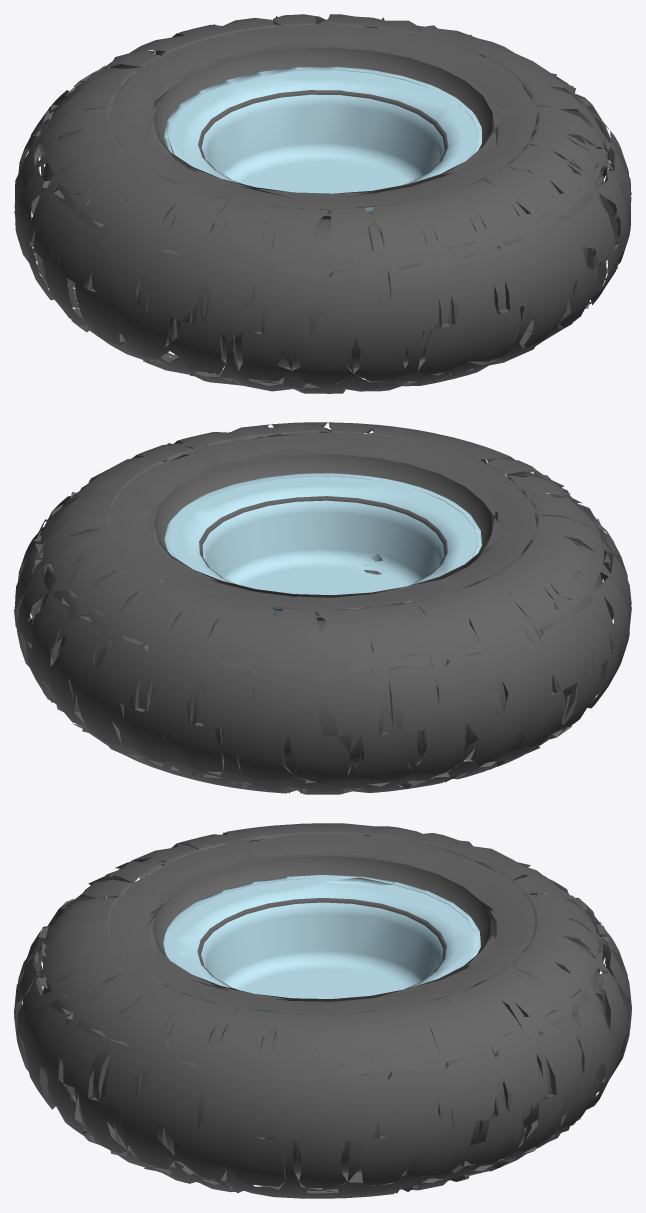
File: rear_left_wheel_visual.obj
3 renders of one model, top to bottom at view 1: azimuth 30°, elevation 25°; view 2: azimuth 150°, elevation 25°; view 3: azimuth 270°, elevation 25°, orthographic.
Visible parts, largest first — view 1: rear_left_wheel_visual; view 2: rear_left_wheel_visual; view 3: rear_left_wheel_visual.
Boxes of the visible parts, box(x1,y1,x2,y2) form: rear_left_wheel_visual: box(14, 14, 631, 393); rear_left_wheel_visual: box(14, 422, 631, 794); rear_left_wheel_visual: box(14, 823, 631, 1198).
Bounding box in the file's own units: 0.255 × 0.0817 × 0.255.
